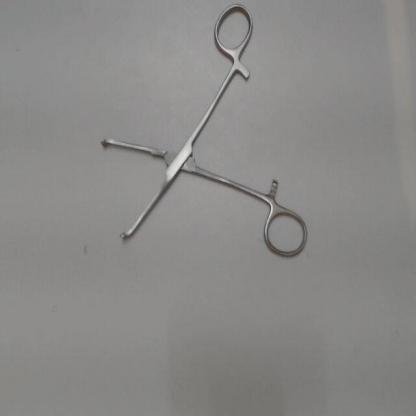Allis Tissue Forceps: (95, 3, 316, 266)
